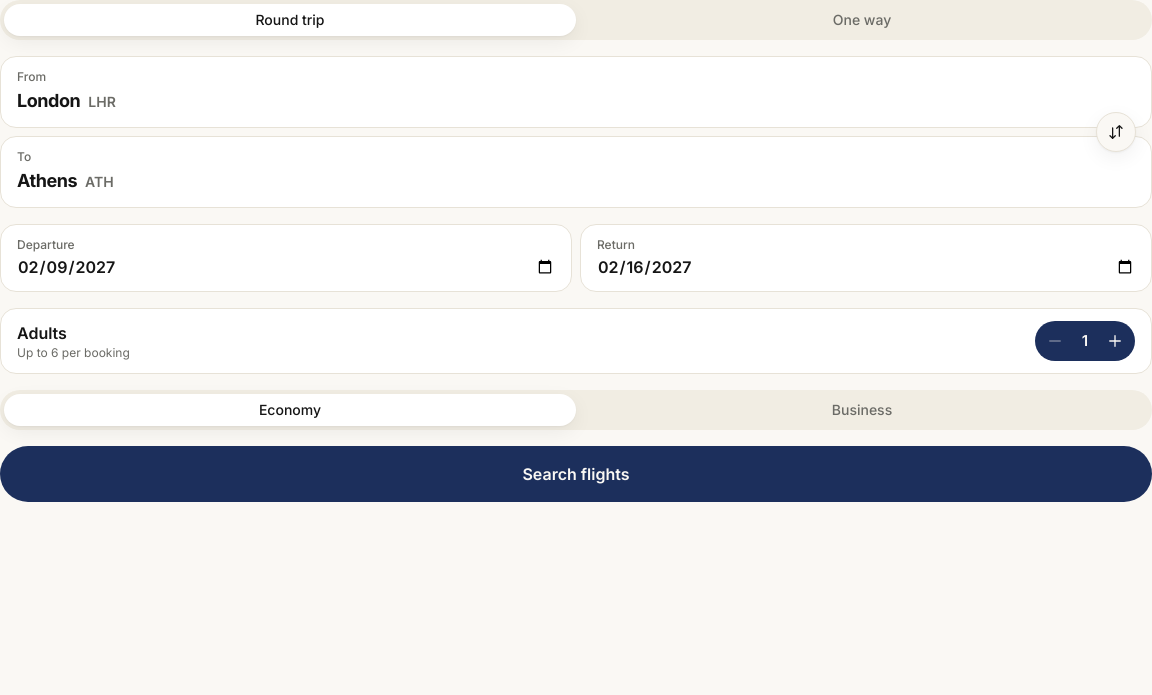
SearchForm › swap button exchanges origin and destination
Click the button "To Athens ATH" at [47, 180], box [0, 136, 1151, 208]
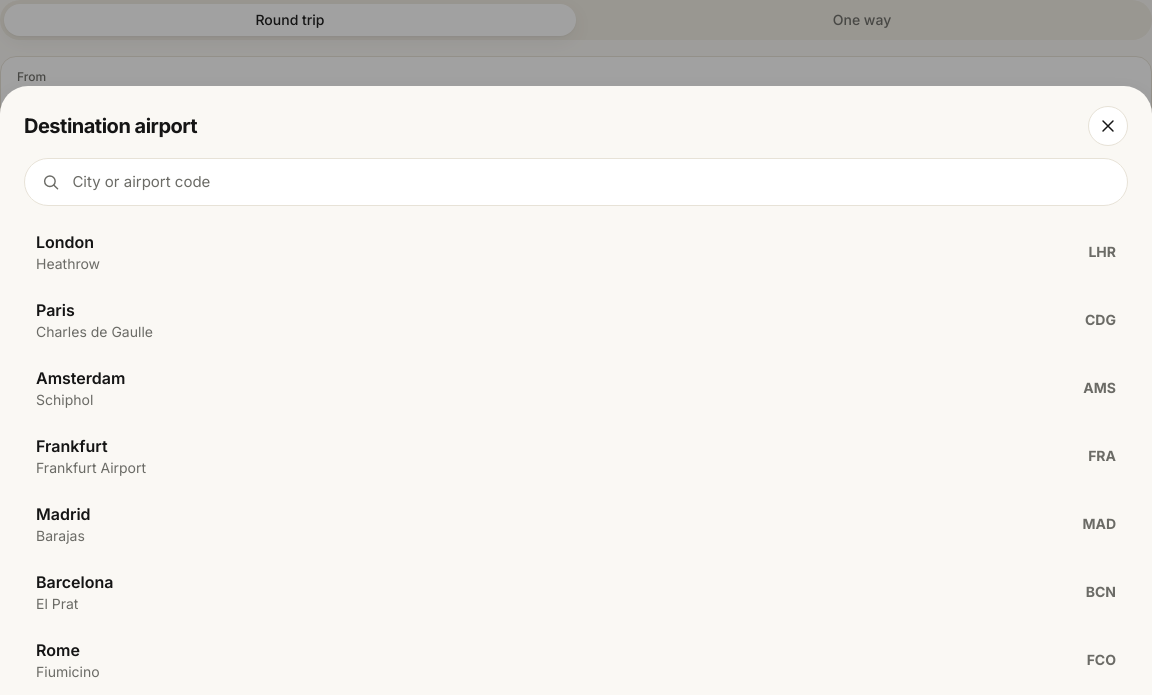
Click the button "Madrid Barajas MAD" at [63, 514], box [24, 490, 1128, 558]
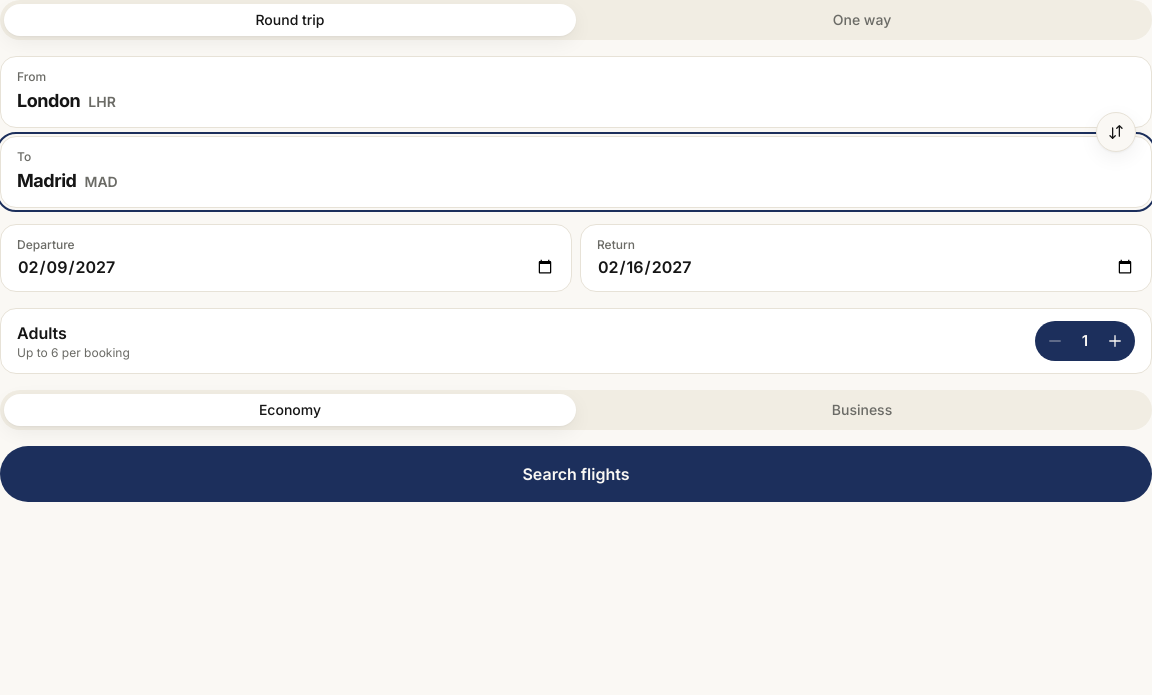
expect the button "From London LHR" is shown: met, box [0, 56, 1151, 128]
expect the button "To Madrid MAD" is shown: met, box [0, 136, 1151, 208]
Click the button named "swap" at [1116, 132], box [1096, 112, 1136, 152]
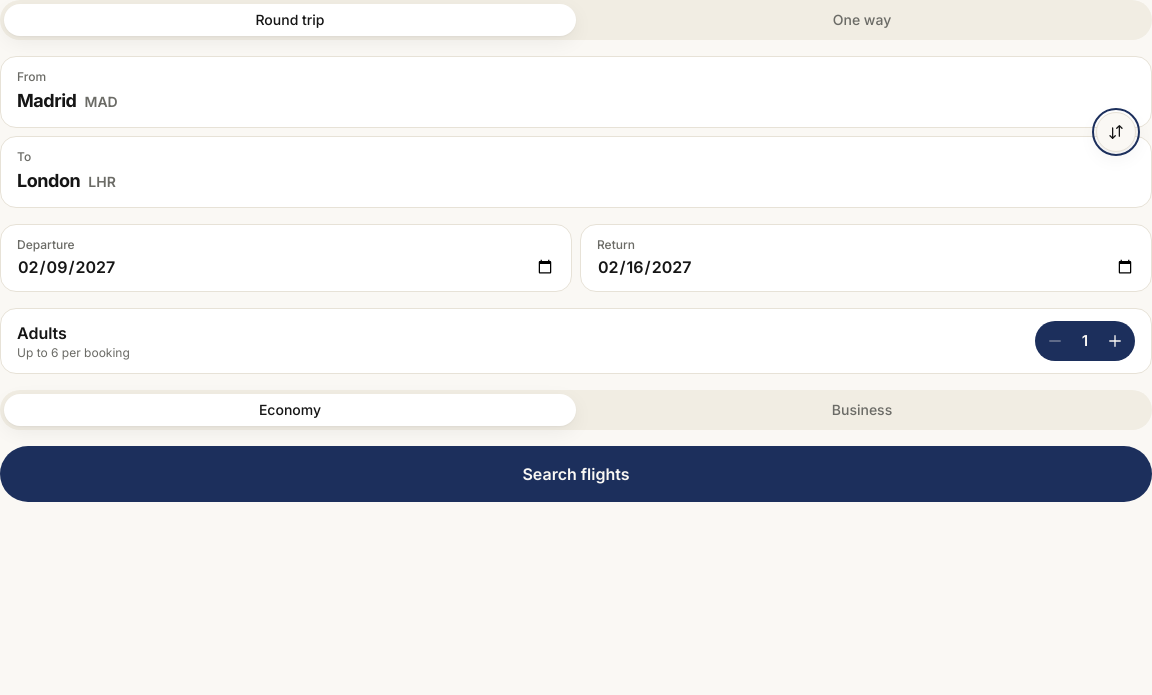
expect the button "From Madrid MAD" is shown: met, box [0, 56, 1151, 128]
expect the button "To London LHR" is shown: met, box [0, 136, 1151, 208]
